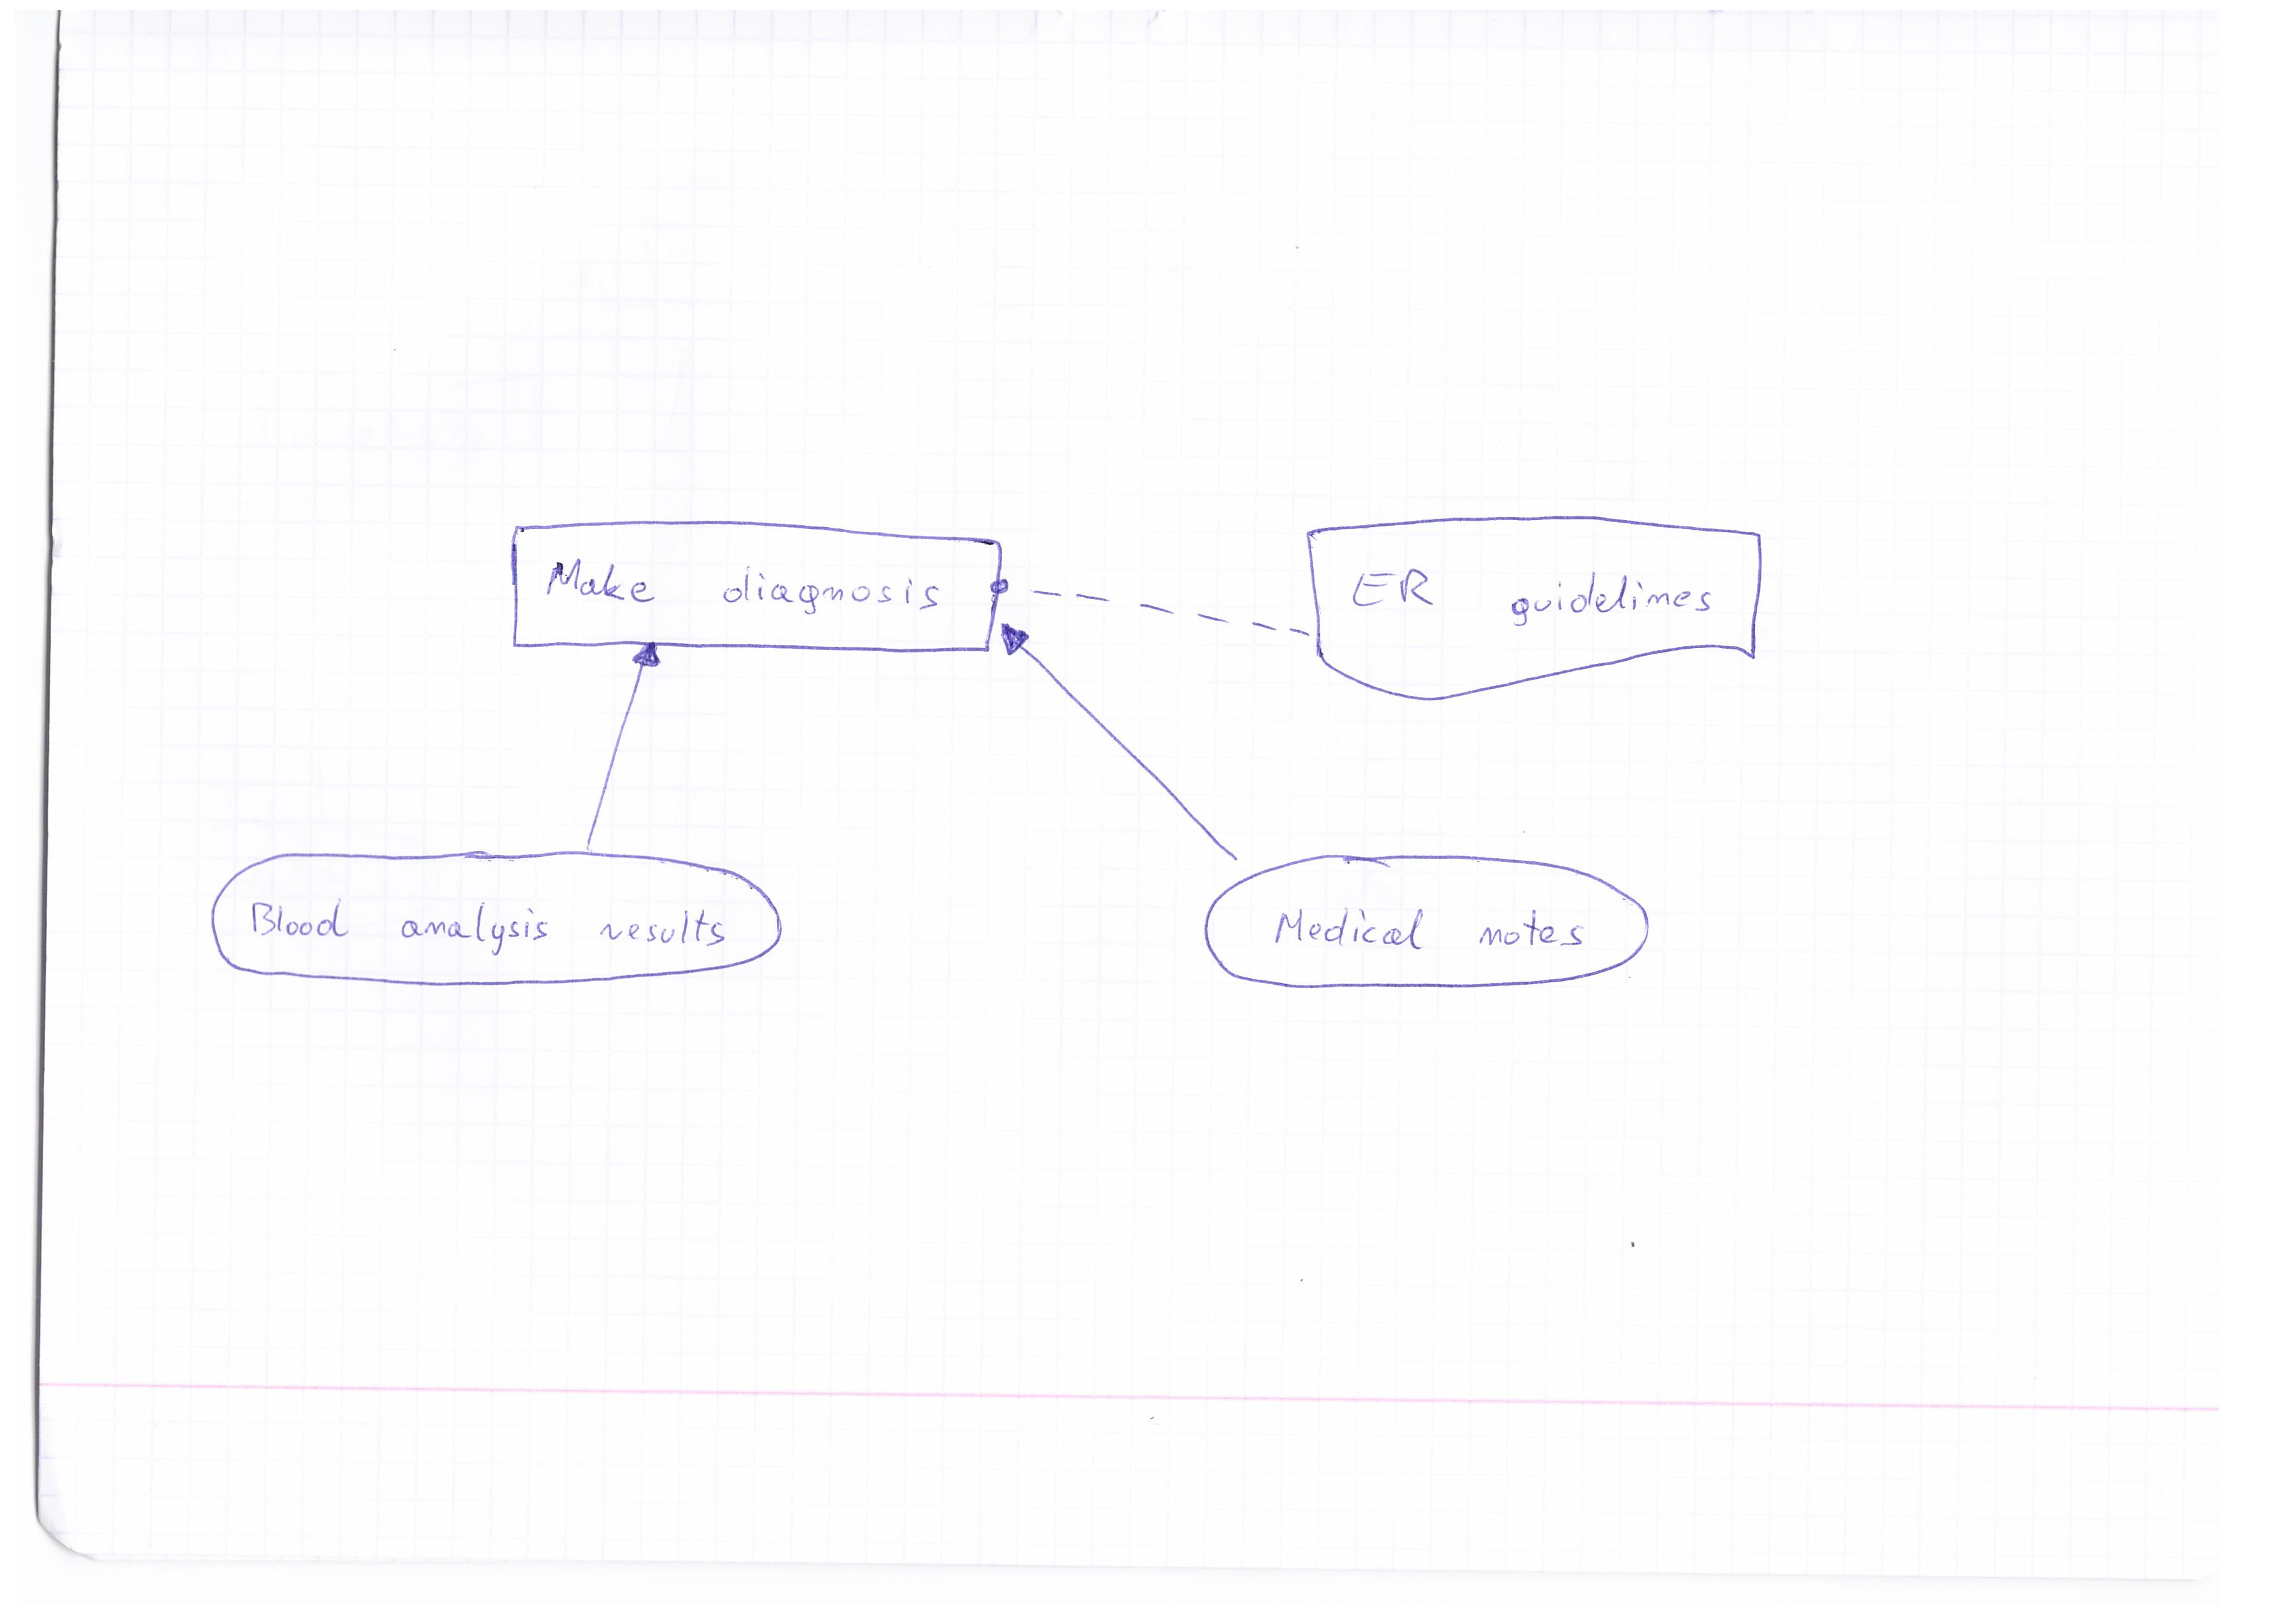arrow_authority_requirement: (984, 564, 1321, 654)
arrow_information_requirement: (991, 615, 1244, 870), (571, 638, 677, 852)
node_decision: (496, 515, 1000, 659)
node_input_data: (199, 844, 803, 1000), (1188, 851, 1668, 1004)
node_knowledge_source: (1302, 515, 1784, 710)
text: (241, 884, 745, 961), (529, 545, 954, 629), (1339, 555, 1734, 631), (1258, 895, 1597, 961)
